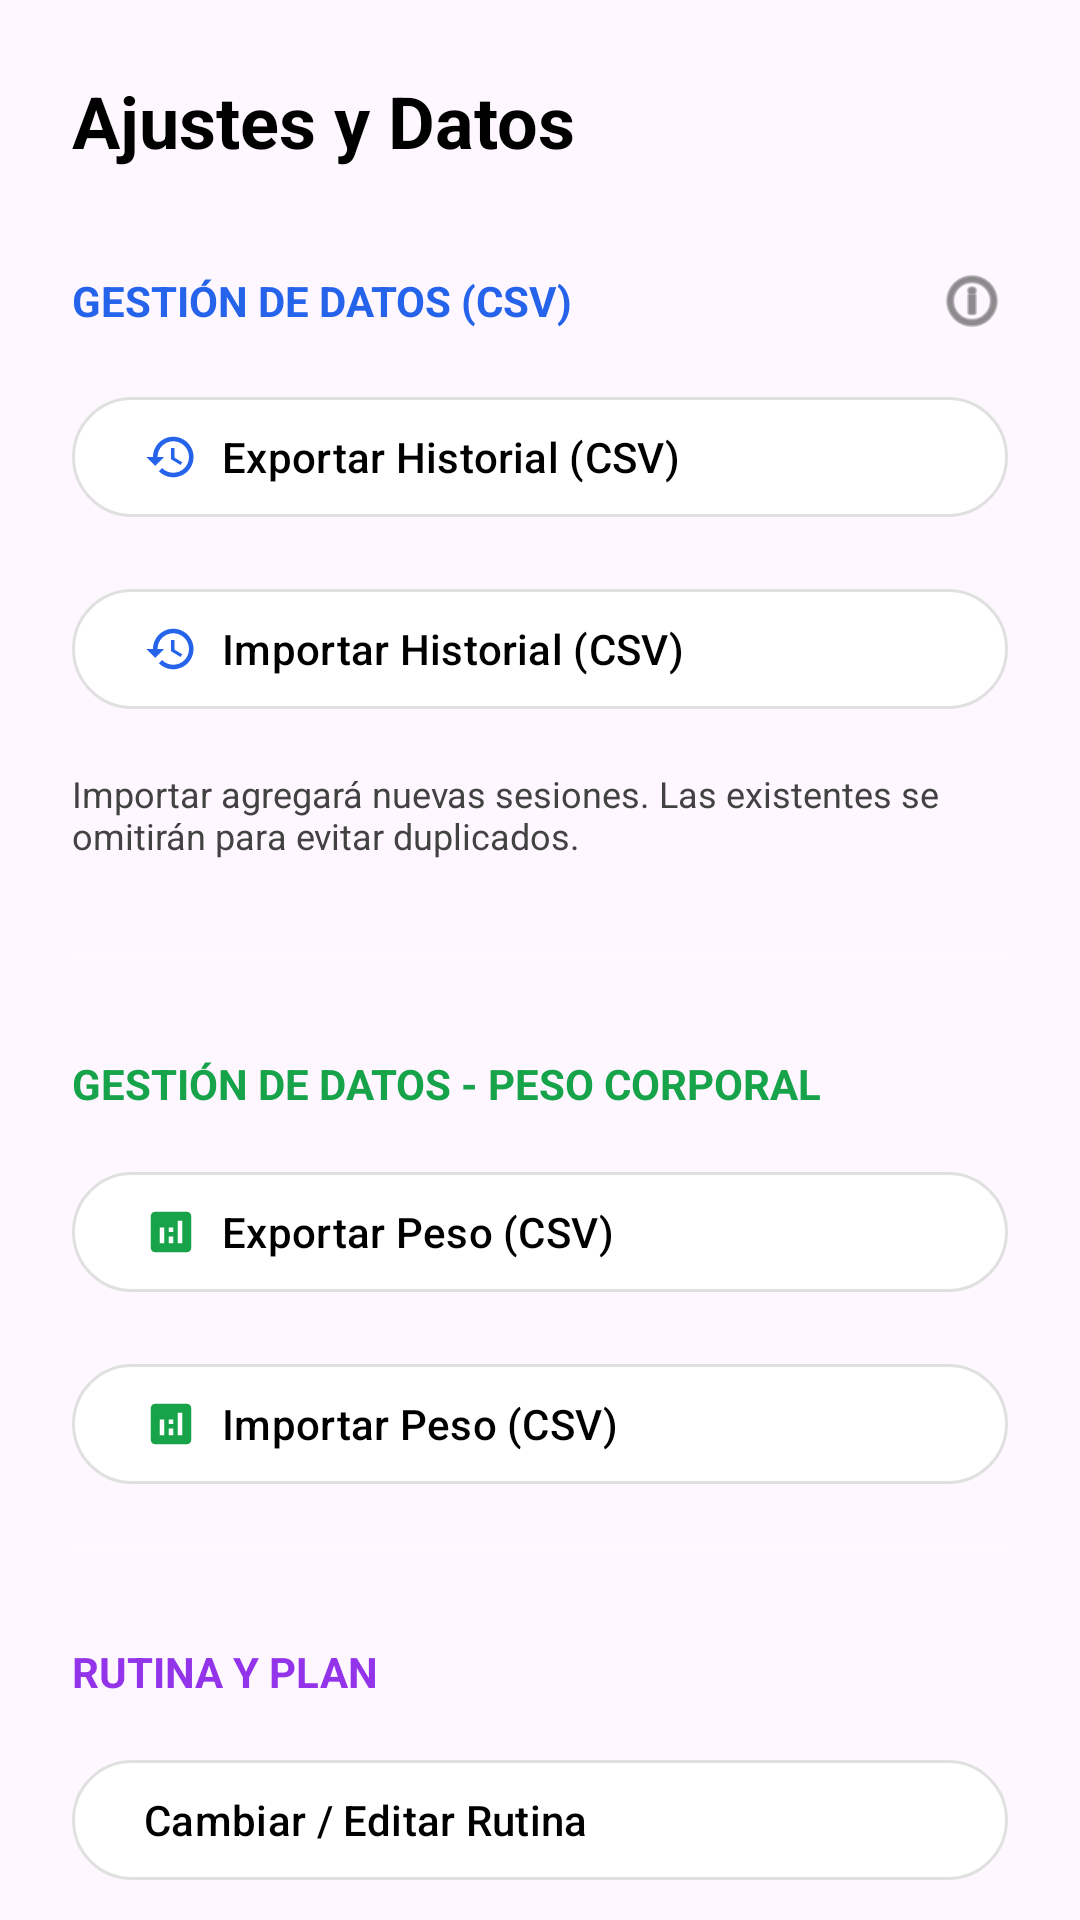

Point at icon controls on the screen. Image size 1080×1920, points as [x,y].
Ayuda Formato CSV: [972,301]
